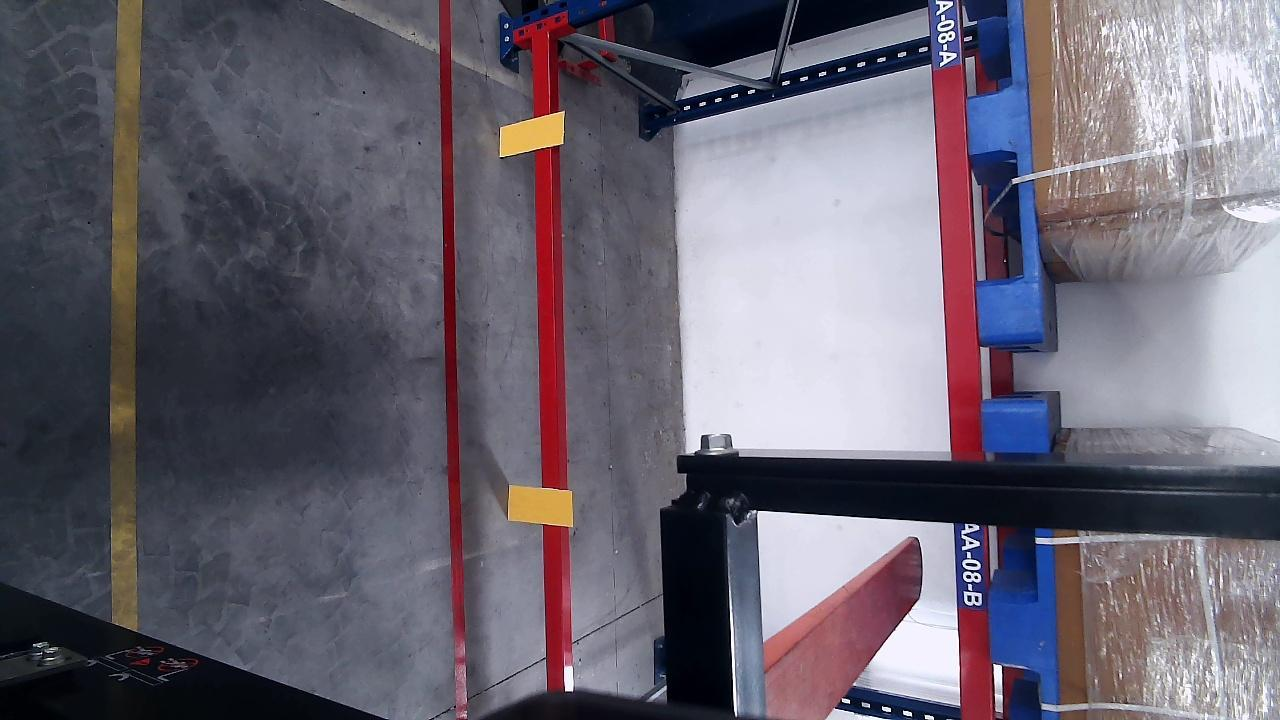h_rack: (927, 2, 995, 716), (529, 31, 563, 691)
orange_strip: (499, 114, 564, 158), (507, 484, 574, 525)
red_line: (436, 2, 470, 720)
small_pallet: (957, 1, 1048, 340), (984, 400, 1065, 719)
yellow_line: (114, 0, 144, 632)
